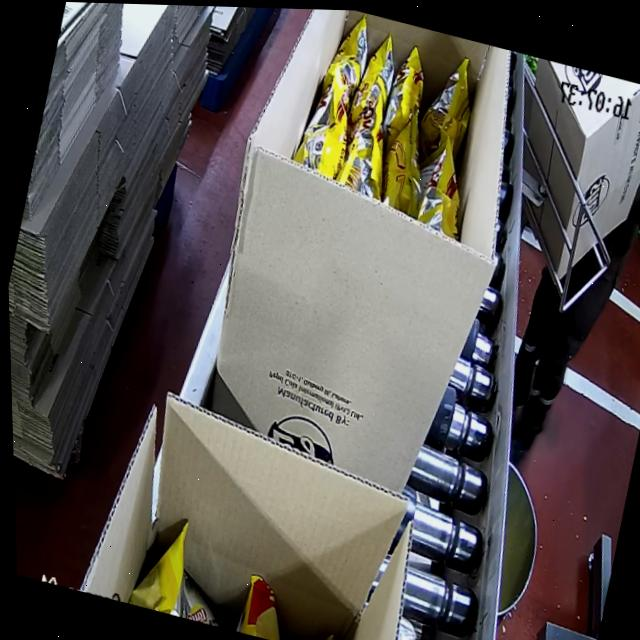SALTED: (294, 15, 501, 244), (112, 480, 375, 640)
